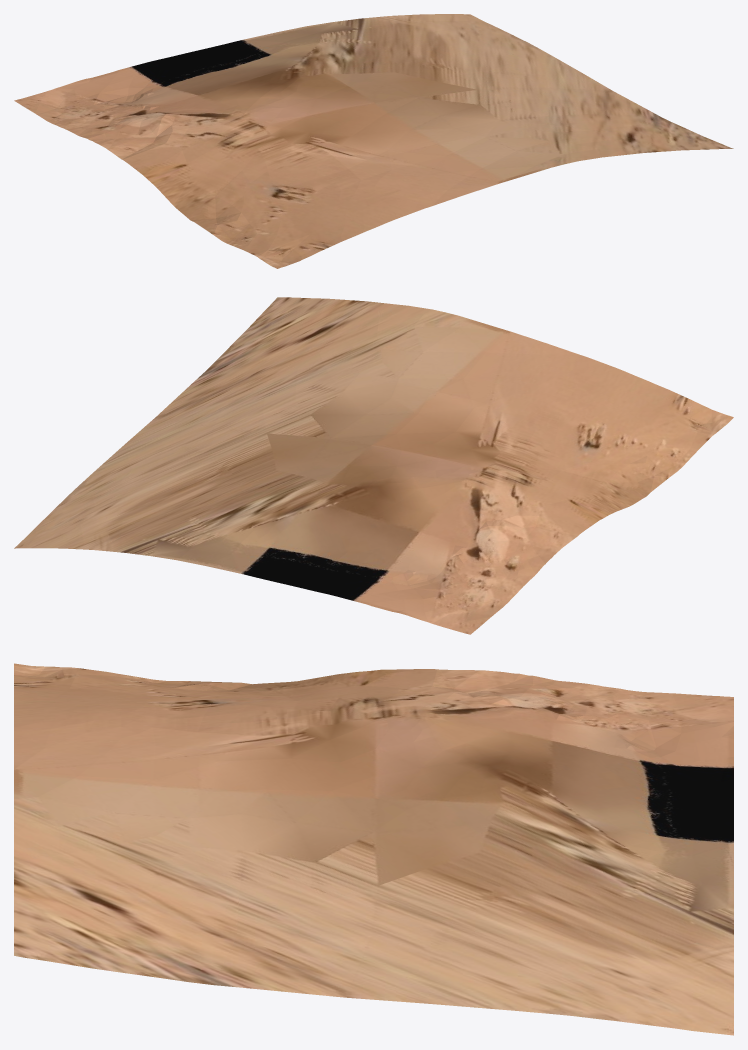
3 renders of one model, top to bottom at view 1: azimuth 30°, elevation 25°; view 2: azimuth 150°, elevation 25°; view 3: azimuth 270°, elevation 25°, orthographic. The views are drawn at different scales.
Bounding box in the file's own units: 4.18 × 0.7369 × 4.18.
Materials: 3 (3 with a texture image).
